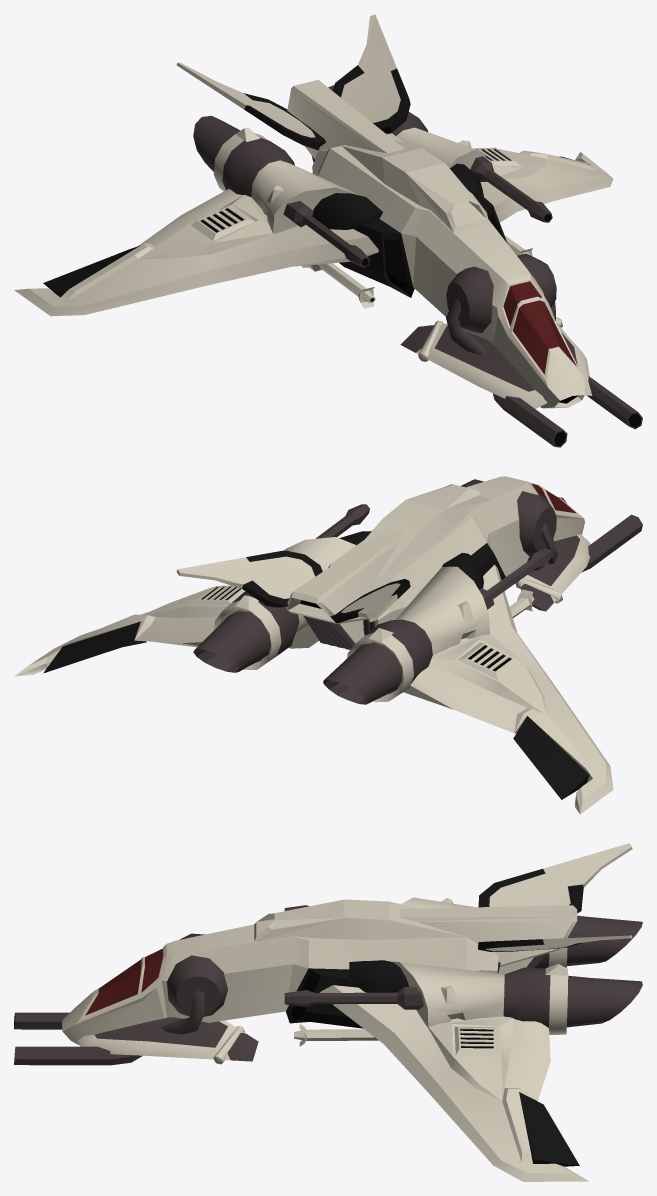
File: defender_retribution.obj
3 renders of one model, top to bottom at view 1: azimuth 30°, elevation 25°; view 2: azimuth 150°, elevation 25°; view 3: azimuth 270°, elevation 25°, orthographic. The views are drawn at different scales.
Visible parts, largest first — view 1: Box14; view 2: Box14; view 3: Box14.
Boxes of the visible parts, <box> form: Box14: <box>14,14,642,447</box>; Box14: <box>14,476,642,814</box>; Box14: <box>14,843,642,1181</box>.
Size of the model in its own units: 14.77 by 4.27 by 14.84.
